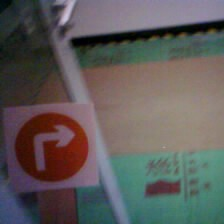right: (6, 107, 99, 193)
